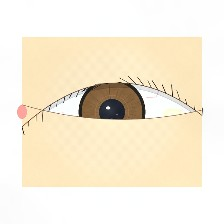pinguecula_lesion: (152, 97, 193, 129)
